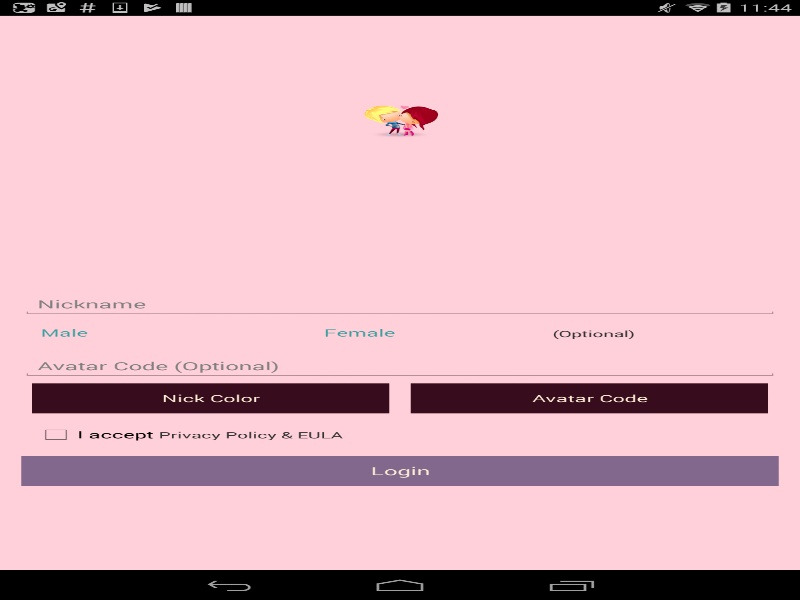Button: (21, 455, 778, 485), (410, 383, 768, 413), (32, 383, 389, 413)
Input: (21, 291, 778, 316), (21, 353, 778, 378)
